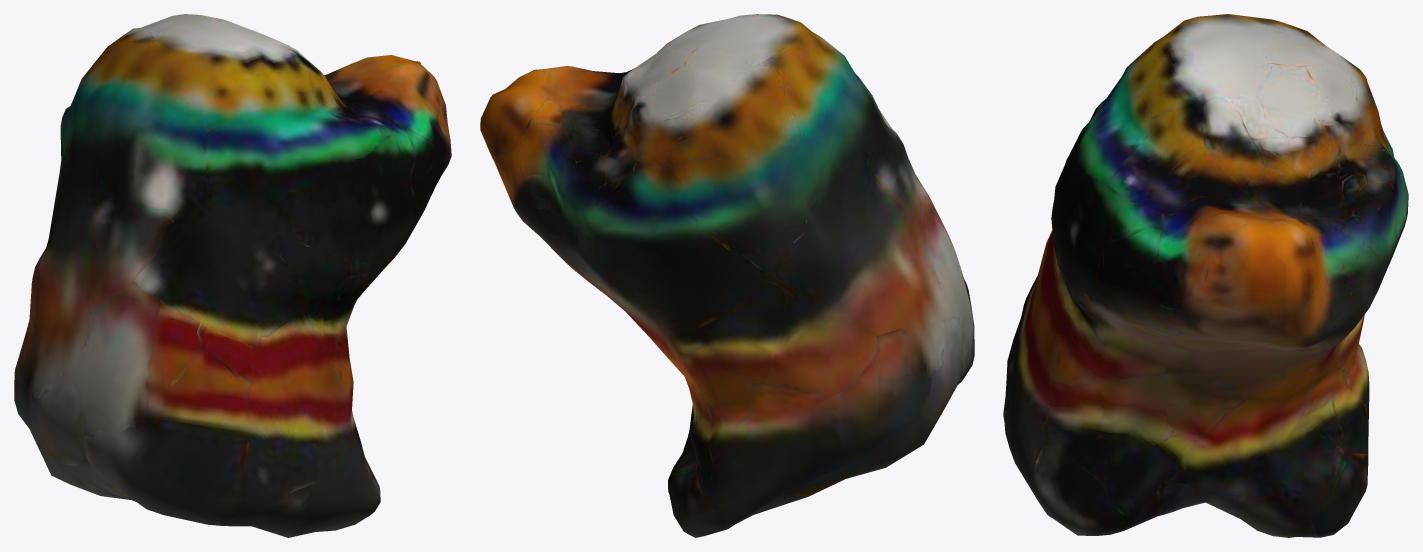
Rendered from hall.glb.
3 renders of one model, left to right at view 1: azimuth 30°, elevation 25°; view 2: azimuth 150°, elevation 25°; view 3: azimuth 270°, elevation 25°, orthographic. The views are drawn at different scales.
Size of the model in its own units: 0.5184 by 0.5535 by 0.4121.
1 material, 1 textured.
